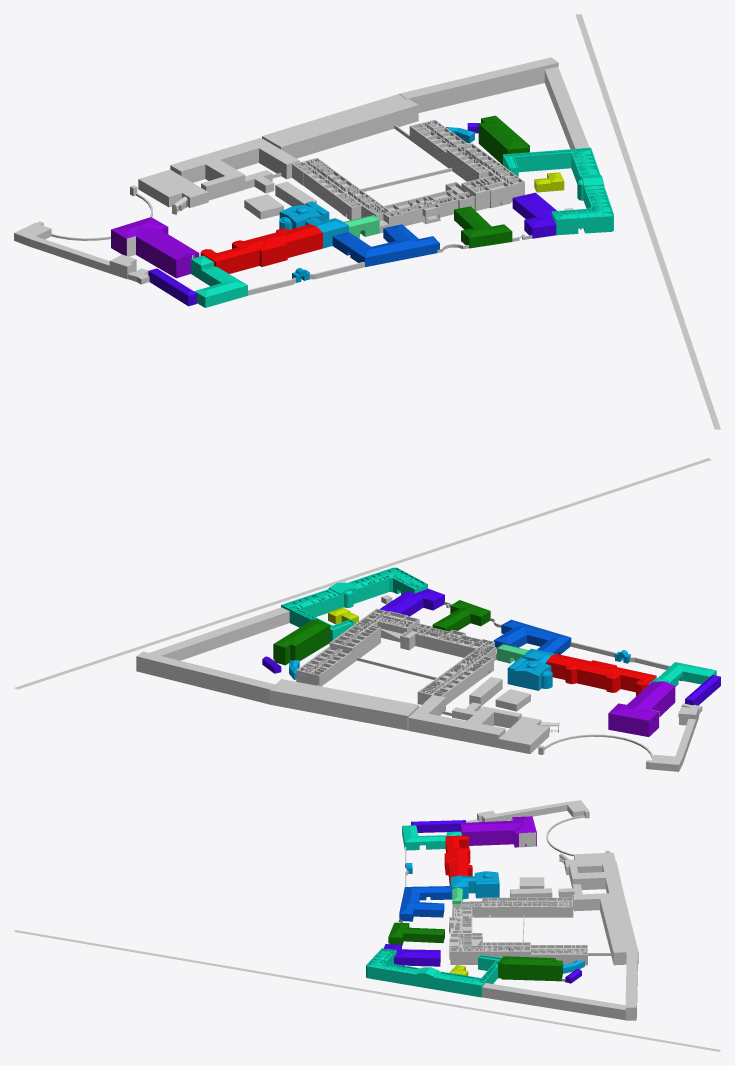
File: RGPY.fbx
The picture shows the model from 3 angles, top to bottom: view 1: azimuth 30°, elevation 25°; view 2: azimuth 150°, elevation 25°; view 3: azimuth 270°, elevation 25°; orthographic projection. The views are drawn at different scales.
Parts seen in each view (by area): view 1: Cube.036, Cube.001, Cube.010, 5.2_0.001, Gorohovaya, 6_0, 11_0, Cathedral_0, Floor_5.001, Cathedral_0.007, Cube.042, Floor_4.004 (+11 smaller); view 2: Cube.036, Cube.001, Cube.010, Gorohovaya, 5.2_0.001, Cube.009, 6_0, Cathedral_0, Cathedral_0.007, Floor_5.001, 14_0, 11_0 (+11 smaller); view 3: Cube.036, Cube.009, Gorohovaya, Cube.001, 6_0, Cathedral_0, 14_0, Cathedral_0.007, 11_0, Floor_5.001, Floor_4.004, Cube.042 (+12 smaller).
Boxes of the visible parts, bbox=[...] form: Cube.036: bbox=[138, 138, 299, 207]; Cube.001: bbox=[262, 94, 418, 158]; Cube.010: bbox=[399, 57, 558, 112]; 5.2_0.001: bbox=[200, 224, 322, 273]; Gorohovaya: bbox=[575, 14, 720, 429]; 6_0: bbox=[111, 217, 199, 278]; 11_0: bbox=[332, 224, 439, 267]; Cathedral_0: bbox=[503, 150, 613, 235]; Floor_5.001: bbox=[446, 143, 524, 197]; Cathedral_0.007: bbox=[503, 147, 613, 224]; Cube.042: bbox=[14, 222, 136, 279]; Floor_4.004: bbox=[292, 158, 377, 210]; Cube.036: bbox=[408, 695, 549, 753]; Cube.001: bbox=[269, 679, 419, 730]; Cube.010: bbox=[136, 651, 276, 704]; Gorohovaya: bbox=[14, 458, 711, 689]; 5.2_0.001: bbox=[546, 654, 656, 695]; Cube.009: bbox=[150, 607, 289, 660]; 6_0: bbox=[608, 681, 675, 736]; Cathedral_0: bbox=[281, 569, 427, 639]; Cathedral_0.007: bbox=[281, 567, 427, 634]; Floor_5.001: bbox=[329, 608, 419, 651]; 14_0: bbox=[273, 619, 329, 665]; 11_0: bbox=[493, 619, 571, 654]; Cube.036: bbox=[564, 852, 624, 911]; Cube.009: bbox=[482, 983, 625, 1020]; Gorohovaya: bbox=[14, 930, 720, 1051]; Cube.001: bbox=[600, 897, 638, 965]; 6_0: bbox=[459, 816, 536, 847]; Cathedral_0: bbox=[366, 950, 500, 995]; 14_0: bbox=[498, 956, 562, 981]; Cathedral_0.007: bbox=[366, 948, 501, 989]; 11_0: bbox=[399, 886, 451, 921]; Floor_5.001: bbox=[449, 933, 530, 954]; Floor_4.004: bbox=[481, 897, 573, 909]; Cube.042: bbox=[477, 800, 588, 822].
Size of the model in its own units: 1726 by 56.4 by 2098.
